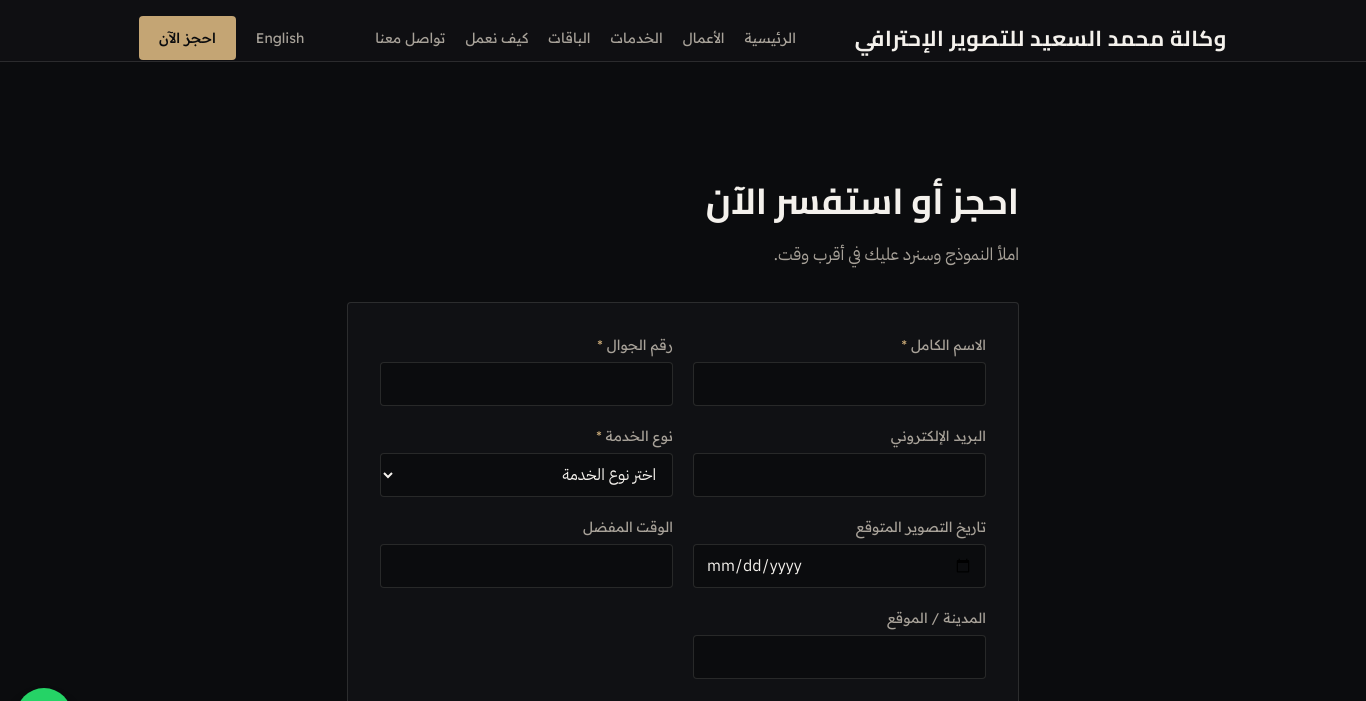
Test: Landing page › shows success message after valid submit
(page scrolled)
Type "سارة" into the field labelled "الاسم الكامل *" at (840, 384), box [693, 362, 986, 406]
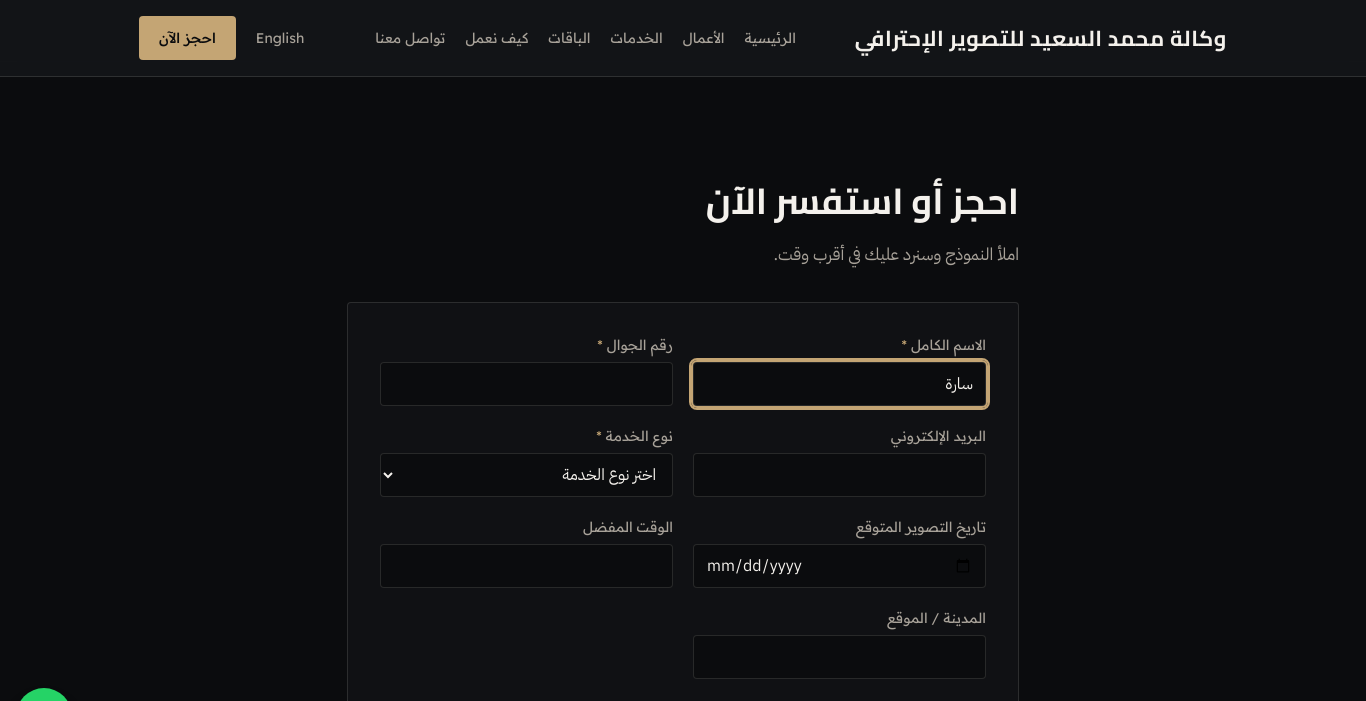
Type "0501234567" into the field labelled "رقم الجوال *" at (526, 384), box [380, 362, 673, 406]
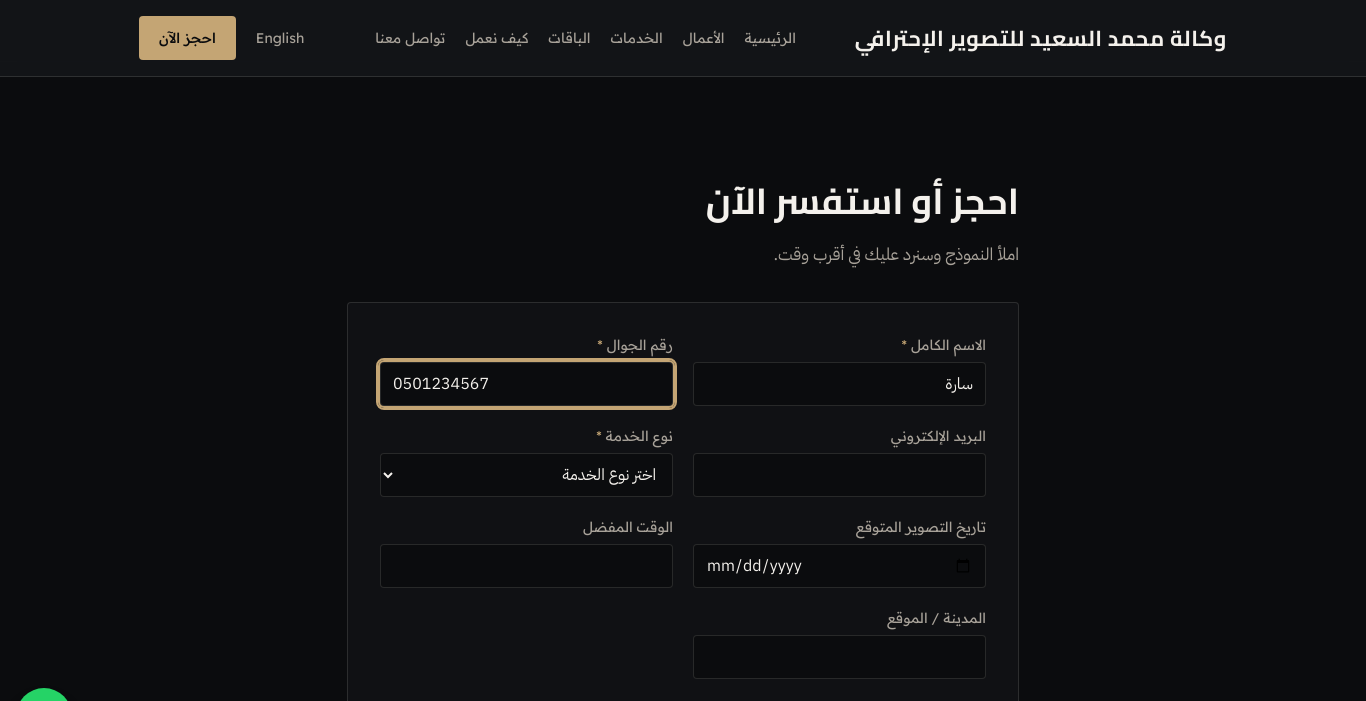
Select "تصوير مناسبة / عرس" in the dropdown labelled "نوع الخدمة *" at (526, 475), box [380, 453, 673, 497]
(page scrolled)
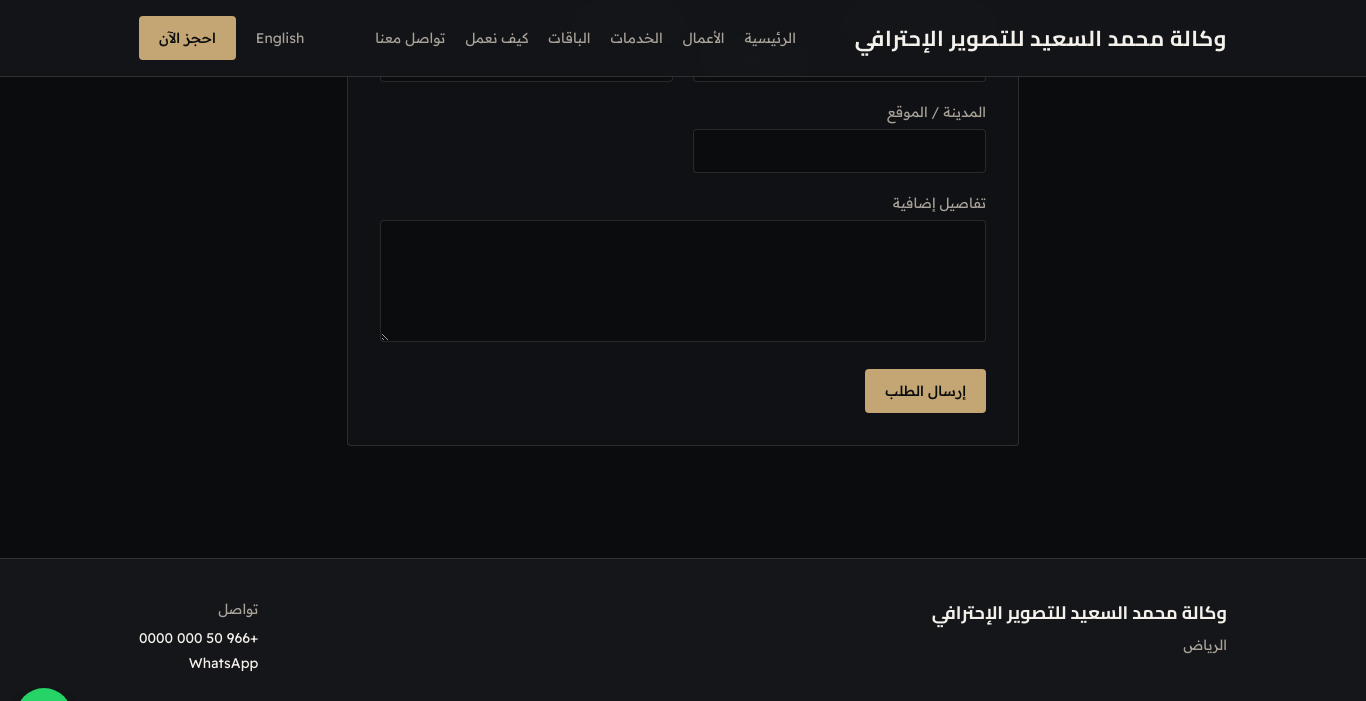
Click the button "إرسال الطلب" at (926, 391), box [865, 369, 986, 413]
(page scrolled)
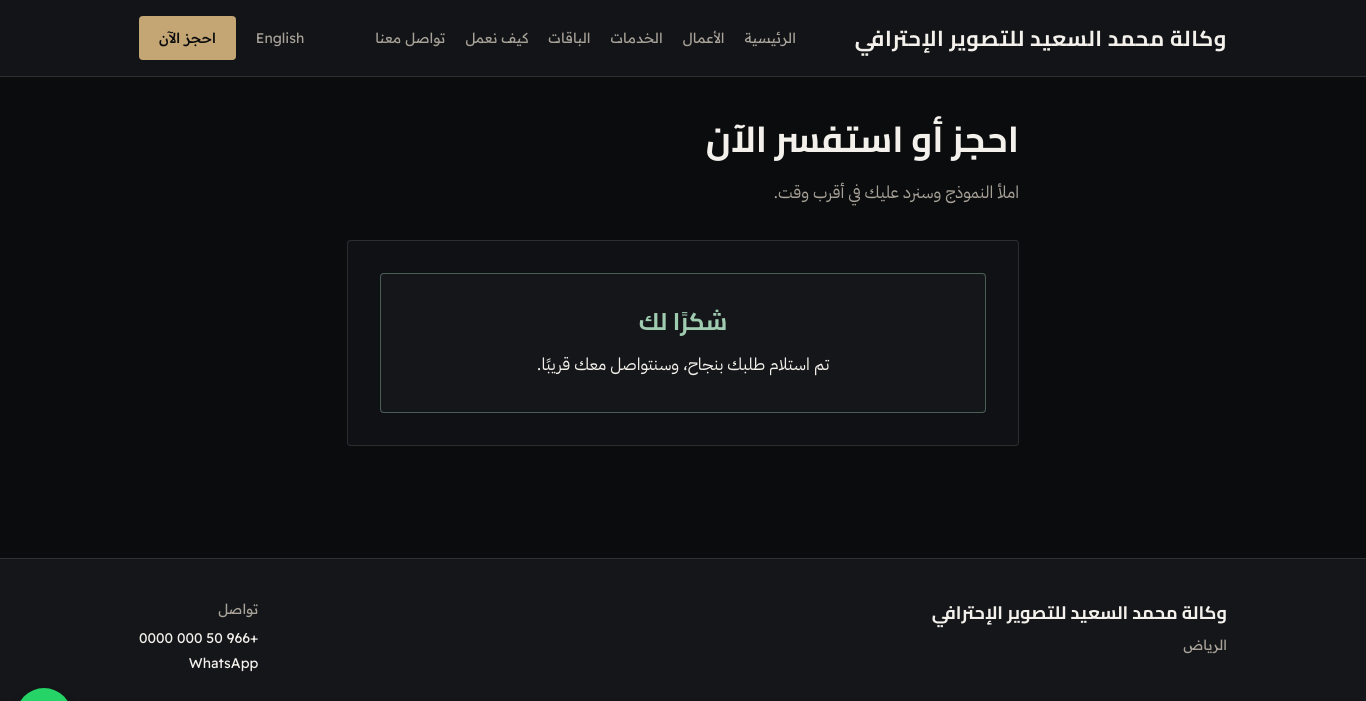
Now the text "تم استلام طلبك بنجاح، وسنتواصل معك قريبًا." is shown, box [537, 352, 829, 377]
